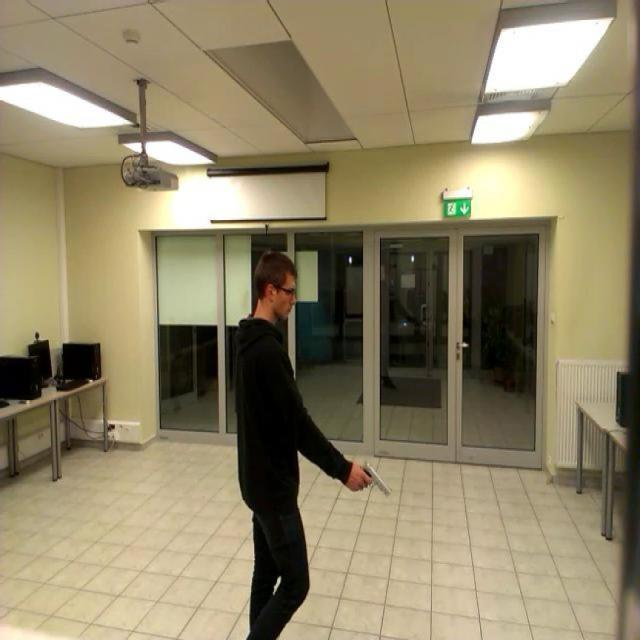pistol: (354, 459, 391, 496)
